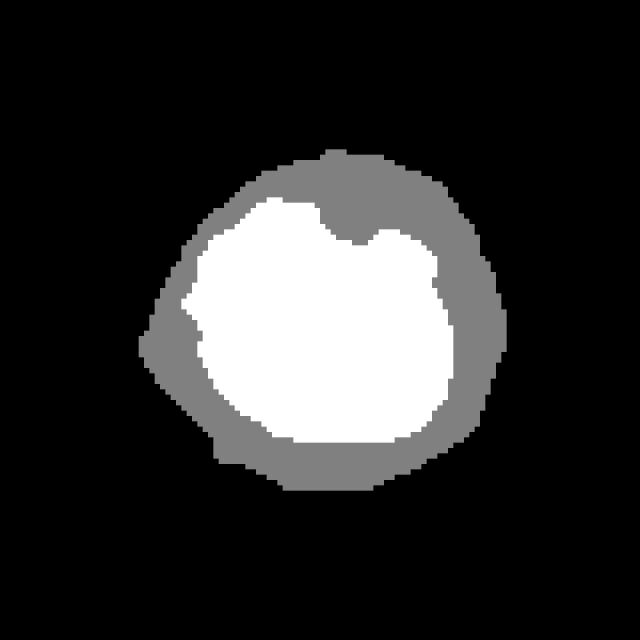WBC: (101, 133, 534, 507)
